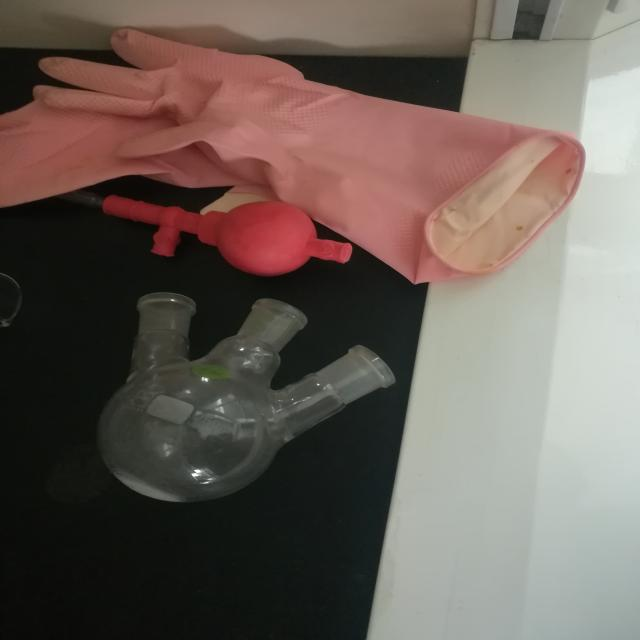Round_Bottom_Flask_Borosilicate_Glass_3_Neck: (80, 258, 409, 570)
